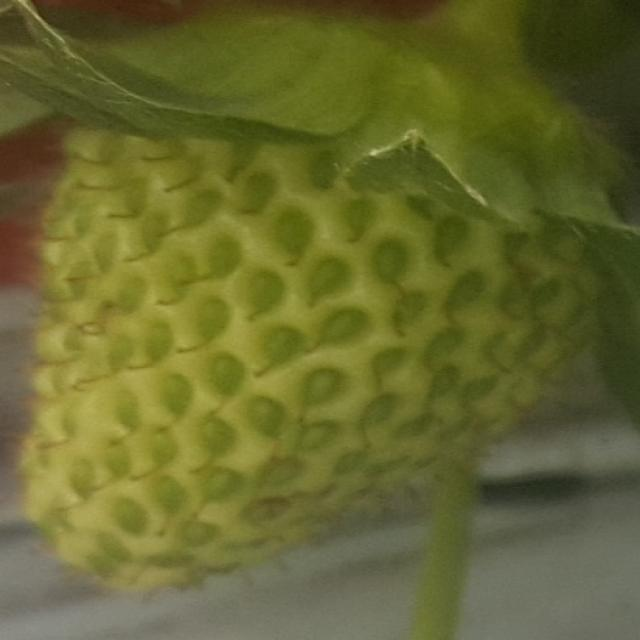Strawberry: (24, 56, 596, 595)
